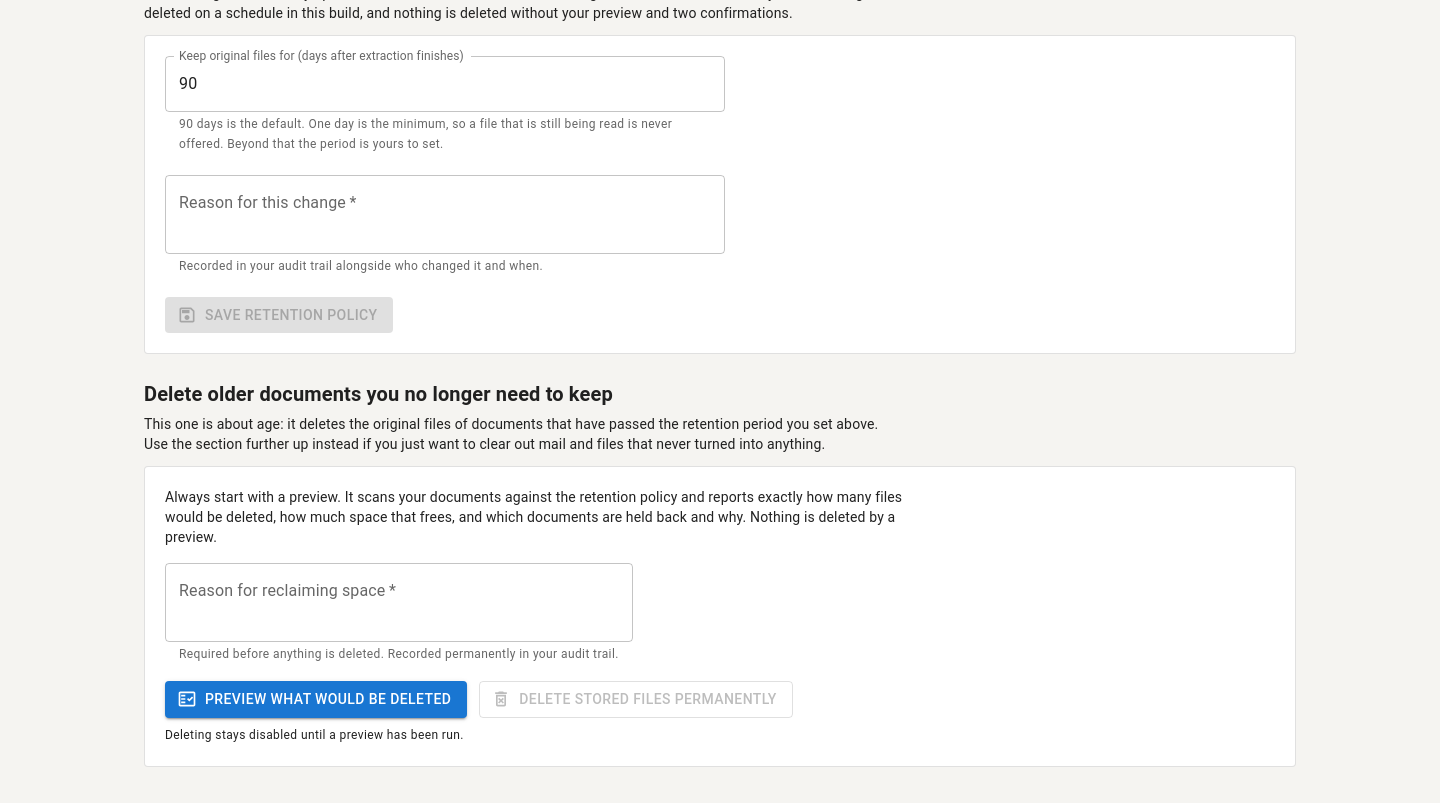
Test: StorageRetentionPage › keeps permanent deletion disabled until a preview has been run
(page scrolled)
Expected: the button "Delete stored files permanently" is disabled, [479,681,793,718]
In the text box labelled "Reason for reclaiming space *": {"x": 399, "y": 603} [179,580,619,626], type "Quarterly storage reclaim"
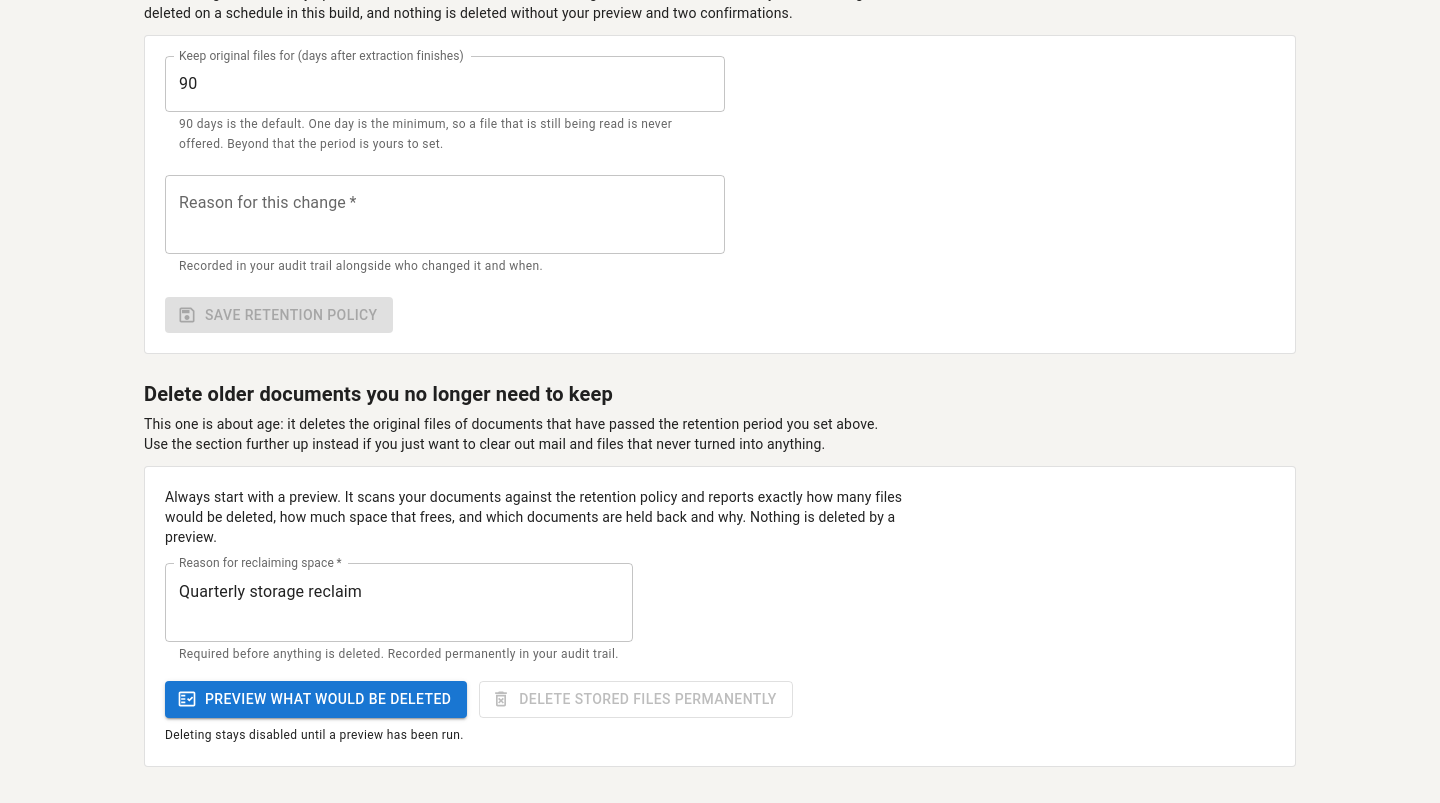
Expected: the button "Delete stored files permanently" is disabled, [479,681,793,718]
Click the button "Preview what would be deleted": {"x": 316, "y": 699} [165,681,467,718]
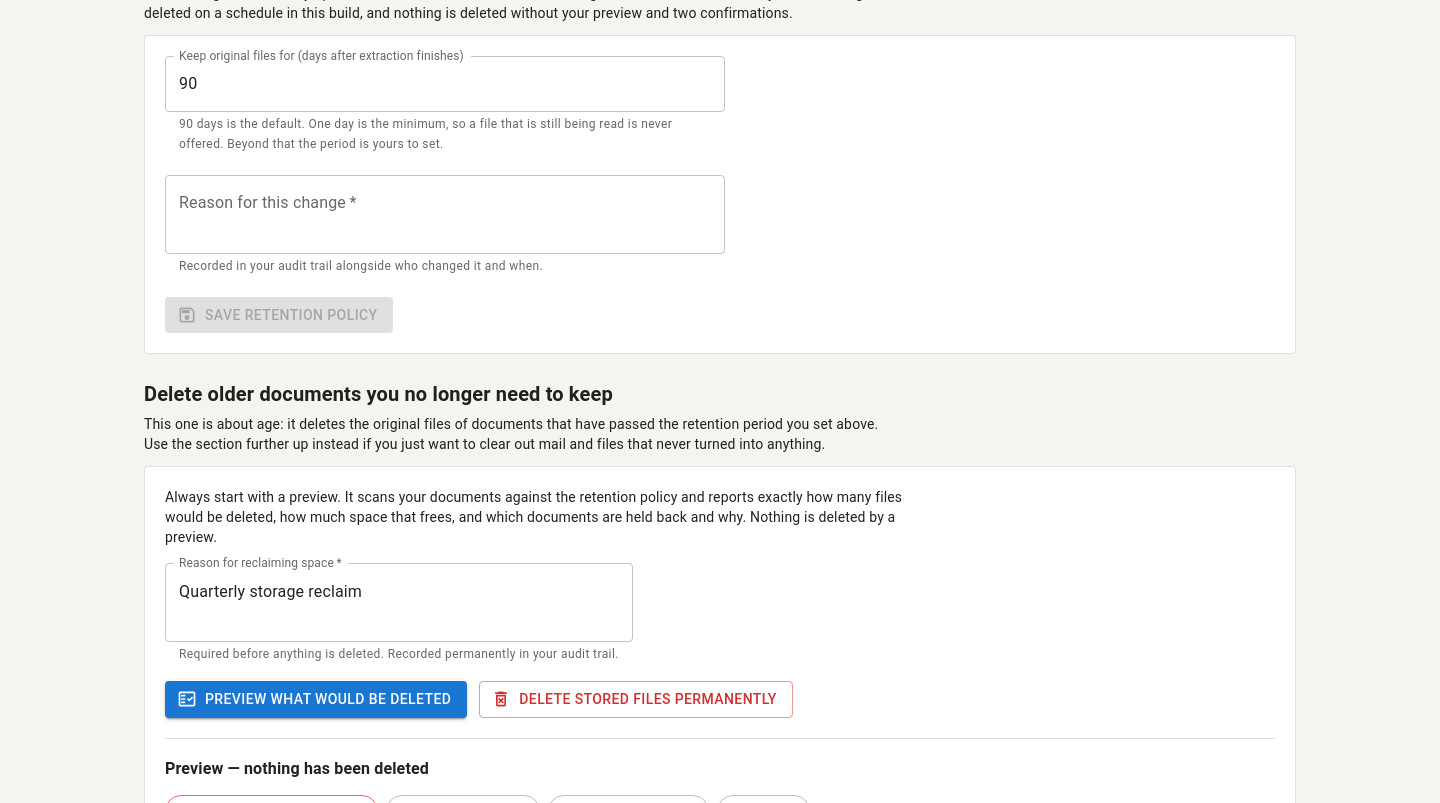
Result: the heading "Preview — nothing has been deleted" is shown at [165,759,429,778]
Result: the button "Delete stored files permanently" is enabled at [479,681,793,718]
